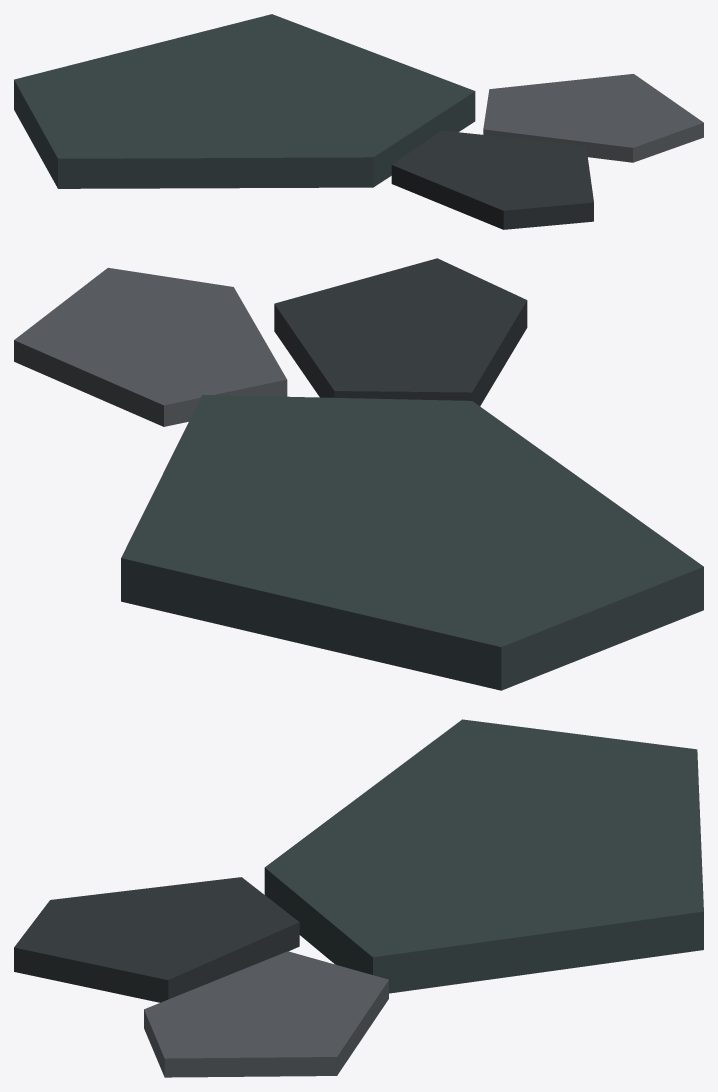
File: TP_Stone05.fbx
The picture shows the model from 3 angles, top to bottom: view 1: azimuth 30°, elevation 25°; view 2: azimuth 150°, elevation 25°; view 3: azimuth 270°, elevation 25°; orthographic projection. The views are drawn at different scales.
Parts seen in each view (by area): view 1: TP_Stone05; view 2: TP_Stone05; view 3: TP_Stone05.
Boxes of the visible parts, box(x1,y1,x2,y2) form: TP_Stone05: box(14, 14, 703, 229); TP_Stone05: box(14, 258, 703, 690); TP_Stone05: box(14, 719, 703, 1077).
Size of the model in its own units: 31.56 by 1.72 by 27.94.
1 material, 1 textured.
